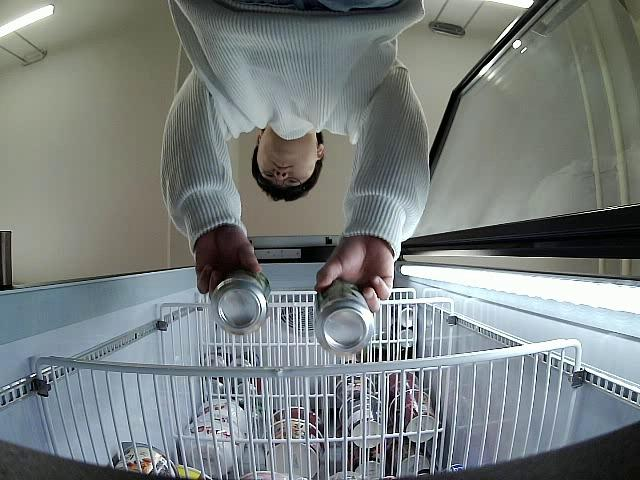00_hand: (316, 238, 396, 312), (194, 235, 261, 294)
12_chilsungCider: (312, 278, 374, 357), (209, 268, 271, 334)
